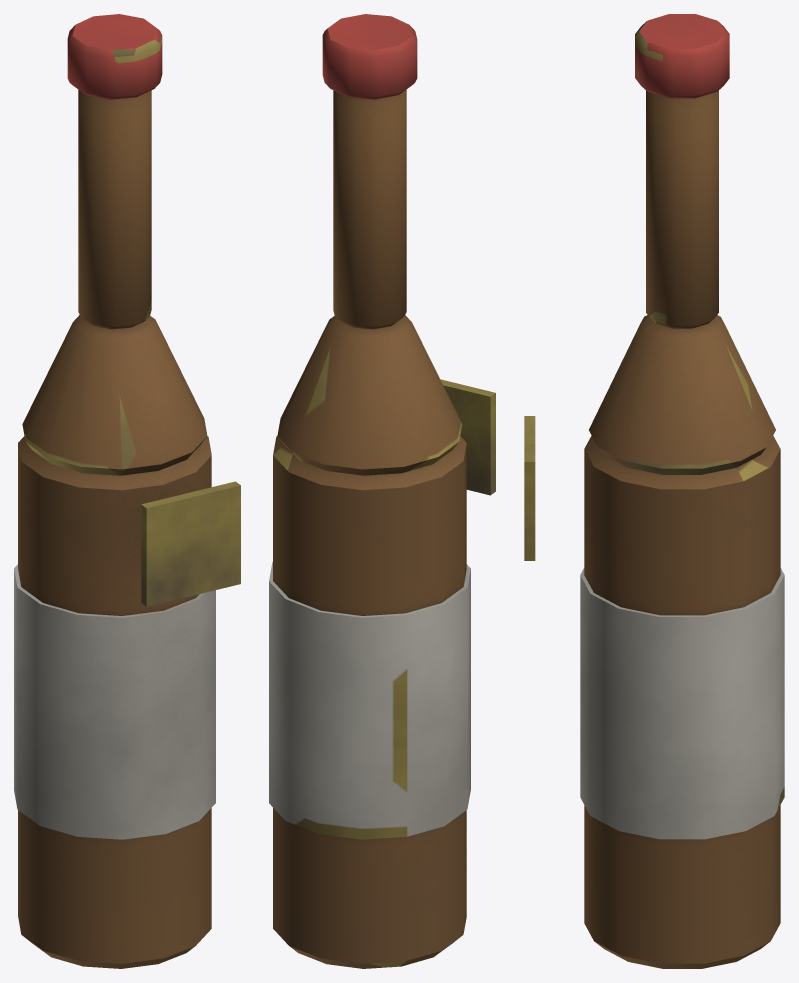
File: g67_pz_bottle_1.glb
The picture shows the model from 3 angles, left to right: view 1: azimuth 30°, elevation 25°; view 2: azimuth 150°, elevation 25°; view 3: azimuth 270°, elevation 25°; orthographic projection.
Visible parts, largest first — view 1: g67_pz_bottle_1, sticker; view 2: g67_pz_bottle_1, sticker; view 3: g67_pz_bottle_1, sticker.
Part boxes in pixels (bbox=[...]): g67_pz_bottle_1: bbox=[14, 14, 215, 968]; sticker: bbox=[141, 481, 240, 606]; g67_pz_bottle_1: bbox=[269, 14, 470, 968]; sticker: bbox=[440, 379, 495, 495]; g67_pz_bottle_1: bbox=[580, 14, 784, 968]; sticker: bbox=[524, 416, 535, 560].
Size of the model in its own units: 0.0731 by 0.365 by 0.0955.
Materials: 1 (1 with a texture image).
